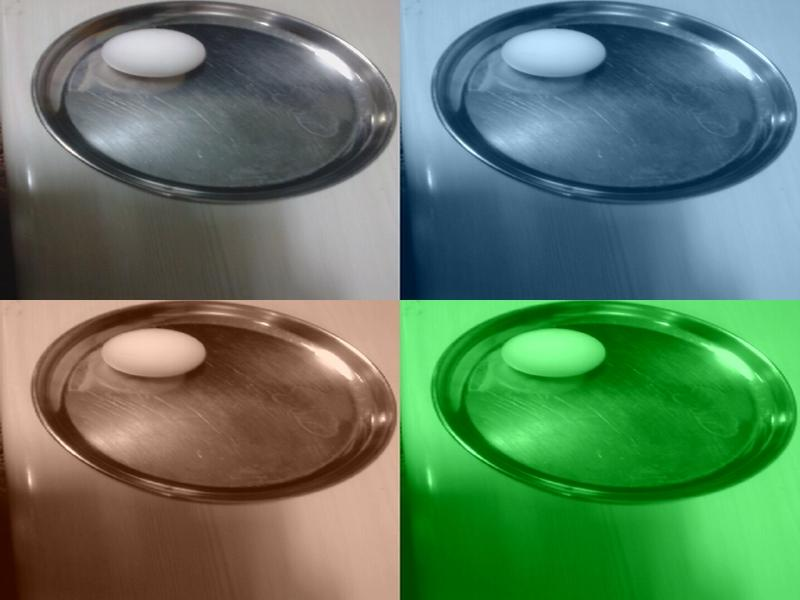egg: (103, 328, 209, 379)
